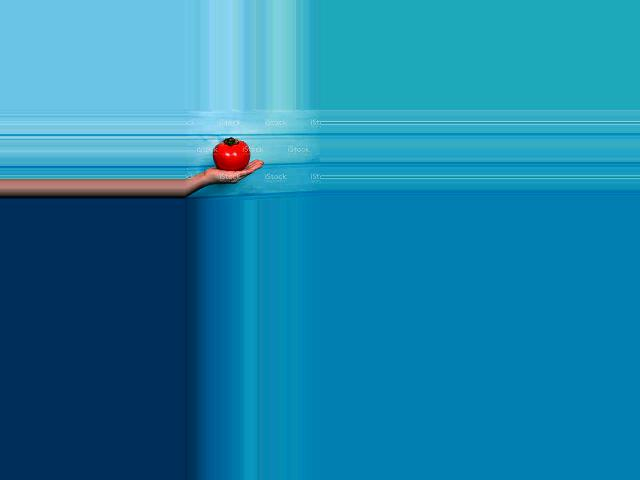tomato: (214, 138, 250, 171)
